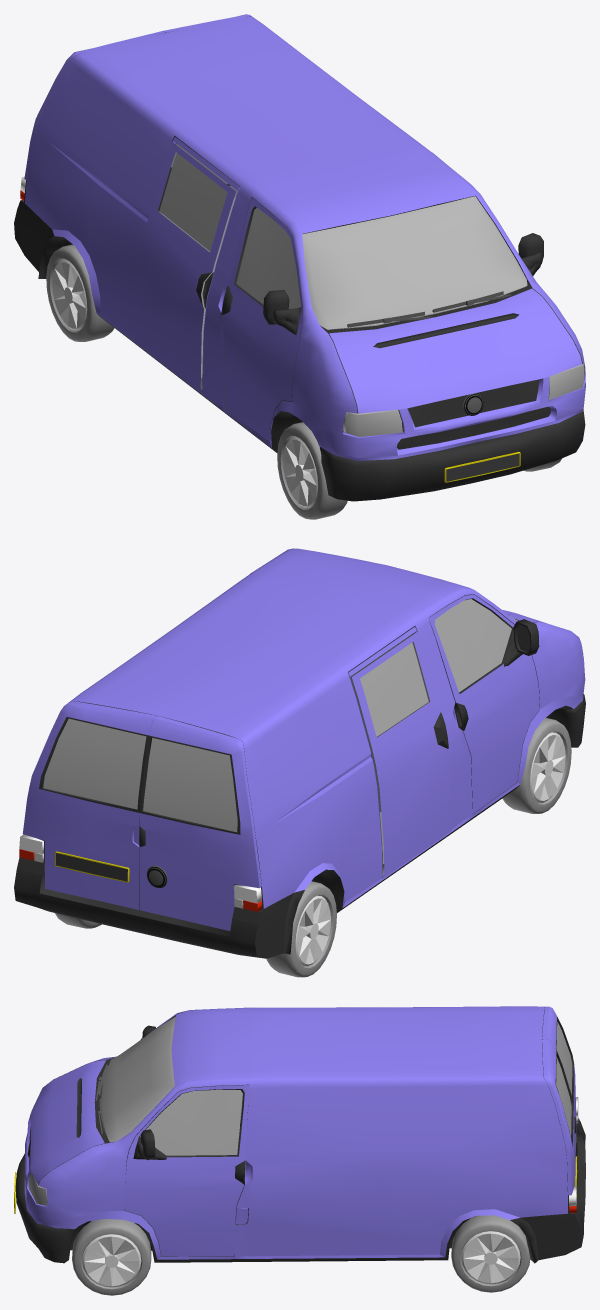
Rendered from VW_Bus24.fbx.
3 renders of one model, top to bottom at view 1: azimuth 30°, elevation 25°; view 2: azimuth 150°, elevation 25°; view 3: azimuth 270°, elevation 25°, orthographic. The views are drawn at different scales.
Parts seen in each view (by area): view 1: Cube.038, Cube.000; view 2: Cube.038, Cube.000; view 3: Cube.038.
Boxes of the visible parts, box(x1,y1,x2,y2) form: Cube.038: box(14, 14, 585, 519); Cube.000: box(135, 141, 235, 391); Cube.038: box(14, 548, 585, 977); Cube.000: box(351, 631, 450, 877); Cube.038: box(14, 1006, 585, 1295).
Size of the model in its own units: 215 by 195 by 472.
